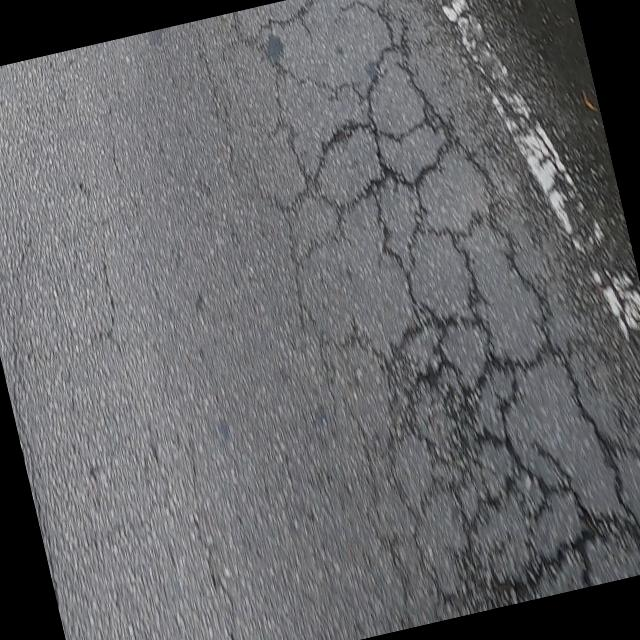Retak-Buaya: (226, 0, 640, 616)
